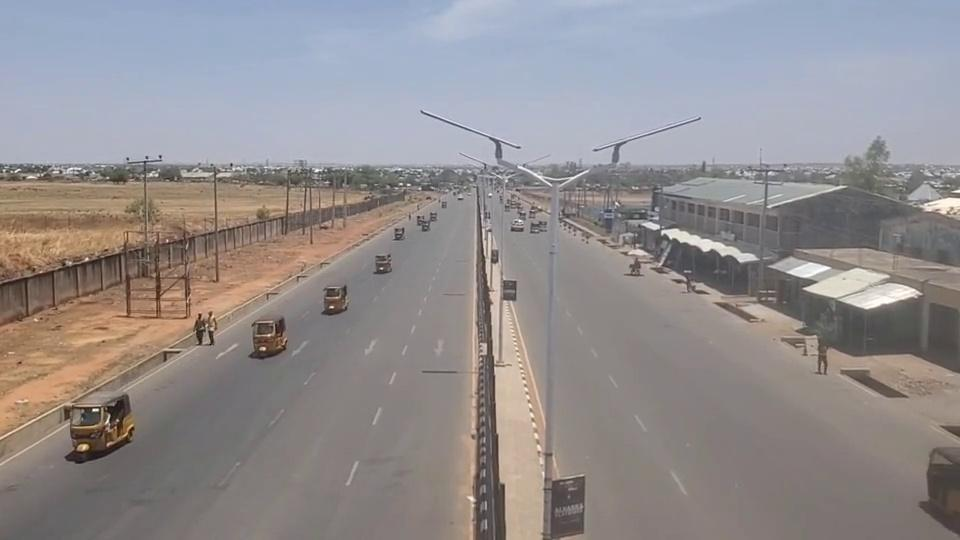car: (511, 219, 525, 232)
keke: (67, 392, 135, 455), (926, 444, 960, 534), (251, 315, 287, 357), (322, 284, 348, 313), (374, 251, 393, 276)
